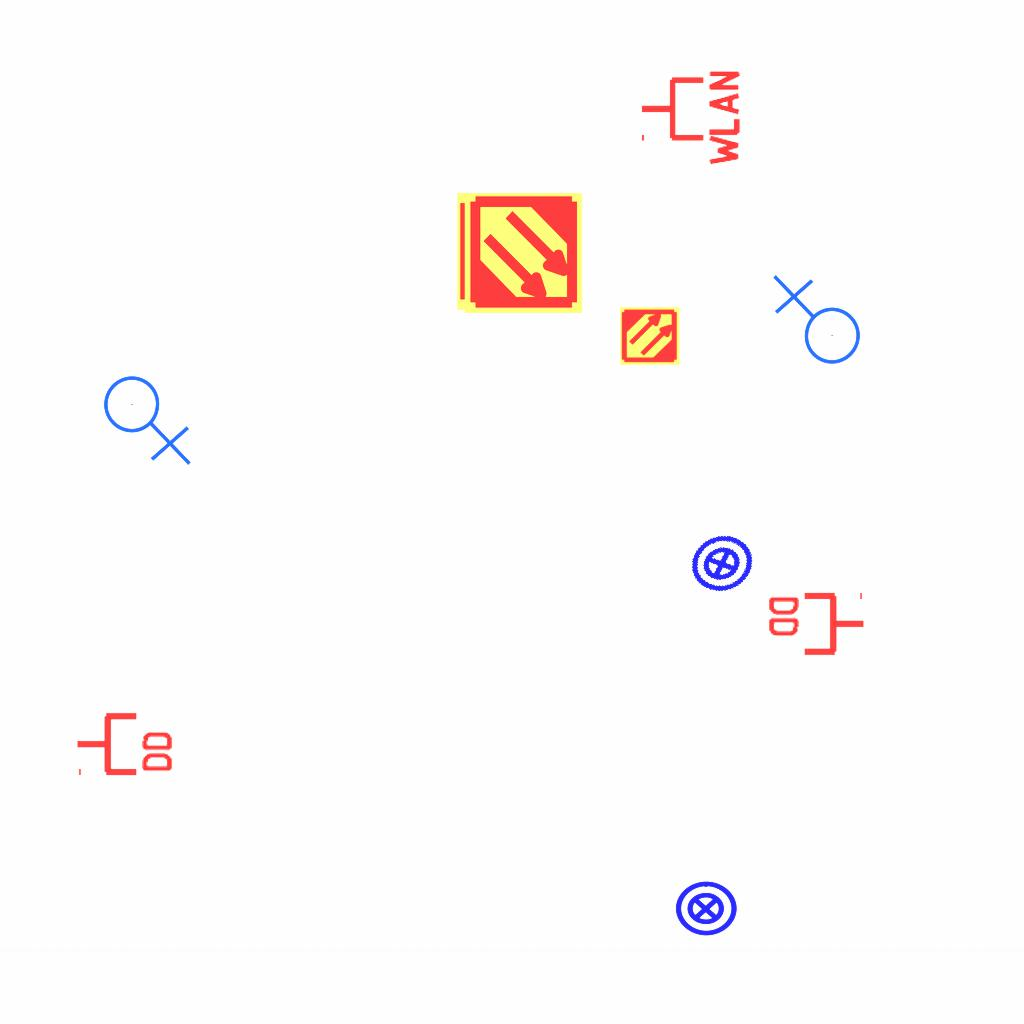ASR_Ansaugrauchmelder: (455, 189, 580, 314), (461, 191, 586, 316), (618, 304, 682, 368)
Datenanschluss_zweifach: (74, 708, 177, 777), (764, 591, 867, 660)
Elektroanschluss_allgemein_230V_Geraeteanschlussdose_230V: (102, 367, 196, 466), (768, 274, 862, 373)
Taster_beleuchtet: (679, 521, 765, 607), (673, 876, 739, 942)
WLAN: (637, 66, 742, 170)
